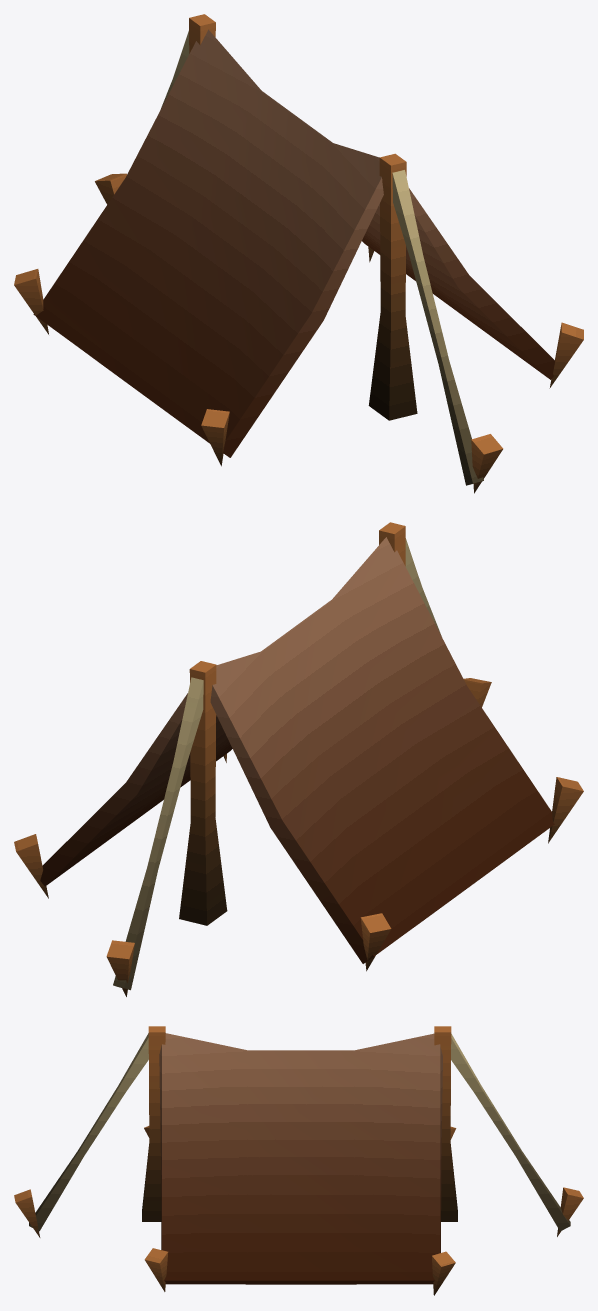
Rendered from simple_low_poly_house_lvl1.glb.
The picture shows the model from 3 angles, top to bottom: view 1: azimuth 30°, elevation 25°; view 2: azimuth 150°, elevation 25°; view 3: azimuth 270°, elevation 25°; orthographic projection. The views are drawn at different scales.
Visible parts, largest first — view 1: house_lvl1_houses_0; view 2: house_lvl1_houses_0; view 3: house_lvl1_houses_0.
Part boxes in pixels (x1,y1,x2,y2): house_lvl1_houses_0: (14,14,583,493); house_lvl1_houses_0: (14,522,583,996); house_lvl1_houses_0: (14,1026,583,1295).
Bounding box in the file's own units: 3.04 × 2.1 × 5.2.
1 material, 1 textured.
